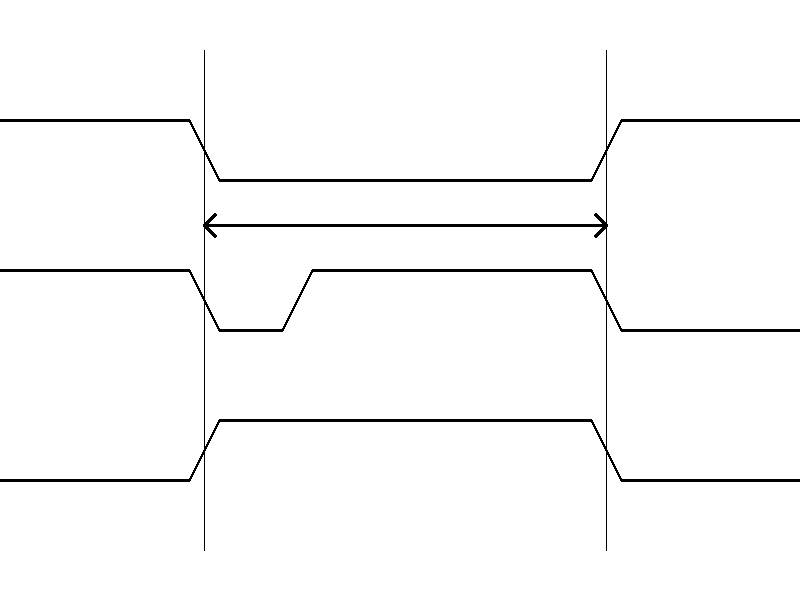double_arrow: (204, 210, 606, 240)
